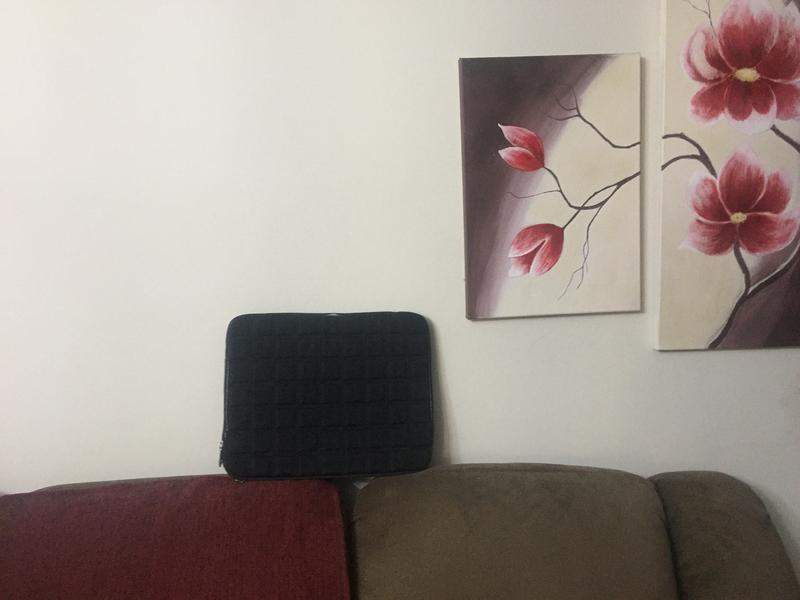cover: (216, 306, 441, 482)
